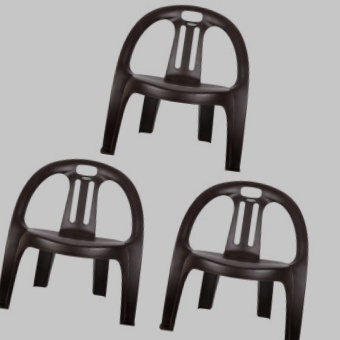plastic: (110, 0, 256, 152), (3, 164, 150, 296)
